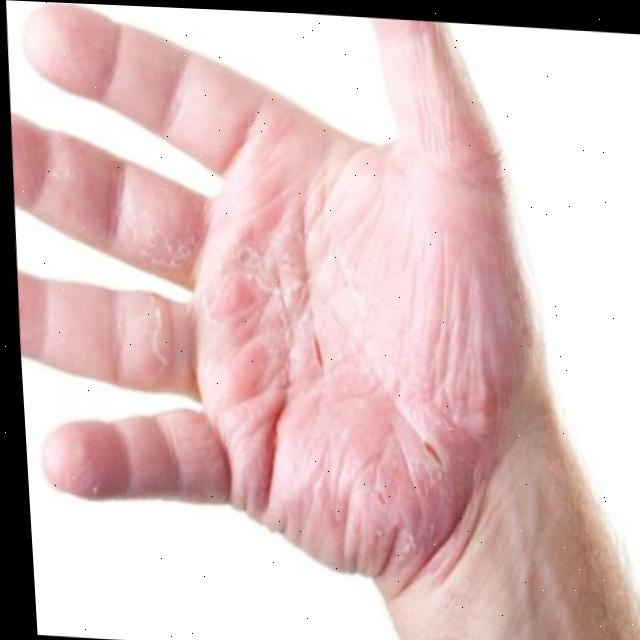Eczema: (47, 172, 500, 539)
